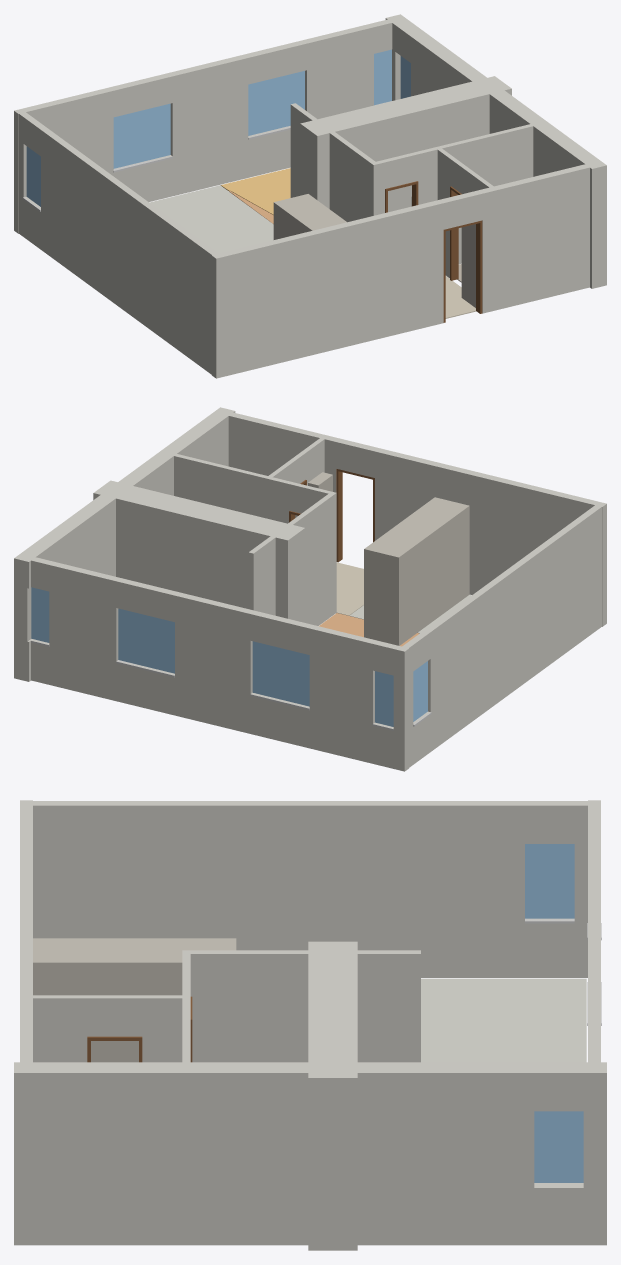
The picture shows the model from 3 angles, top to bottom: view 1: azimuth 30°, elevation 25°; view 2: azimuth 150°, elevation 25°; view 3: azimuth 270°, elevation 25°; orthographic projection. The views are drawn at different scales.
Visible parts, largest first — view 1: walls, floor_0_Undefined, window_5, window_0, furniture_0_closet, floor_1_Kitchen, furniture_1_closet, door_3, window_2, window_4, floor_5_Entry, door_7; view 2: walls, furniture_0_closet, window_5, window_0, floor_5_Entry, window_2, window_6, door_3, window_4, floor_3_Living_Room; view 3: walls, floor_0_Undefined, furniture_0_closet, window_4, window_1.
Boxes of the visible parts, <box> form: walls: <box>14,14,606,378</box>; floor_0_Undefined: <box>149,185,273,253</box>; window_5: <box>113,103,170,168</box>; window_0: <box>248,71,304,135</box>; furniture_0_closet: <box>273,194,346,239</box>; floor_1_Kitchen: <box>220,168,290,214</box>; furniture_1_closet: <box>461,224,475,307</box>; door_3: <box>443,220,482,322</box>; window_2: <box>374,49,391,105</box>; window_4: <box>26,146,40,206</box>; floor_5_Entry: <box>445,276,476,318</box>; door_7: <box>450,186,461,280</box>; walls: <box>14,407,606,771</box>; furniture_0_closet: <box>364,497,469,645</box>; window_5: <box>252,641,309,706</box>; window_0: <box>118,608,174,673</box>; floor_5_Entry: <box>336,562,363,615</box>; window_2: <box>31,587,49,642</box>; window_6: <box>375,671,393,726</box>; door_3: <box>336,469,374,562</box>; window_4: <box>413,661,427,721</box>; floor_3_Living_Room: <box>319,613,419,646</box>; walls: <box>14,800,606,1250</box>; floor_0_Undefined: <box>421,978,586,1062</box>; furniture_0_closet: <box>33,938,236,1062</box>; window_4: <box>525,844,574,918</box>; window_1: <box>534,1111,583,1182</box>.
Bounding box in the file's own units: 9.34 × 2.72 × 8.42.
